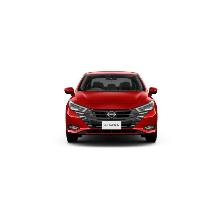NON-EV: (65, 72, 160, 146)
